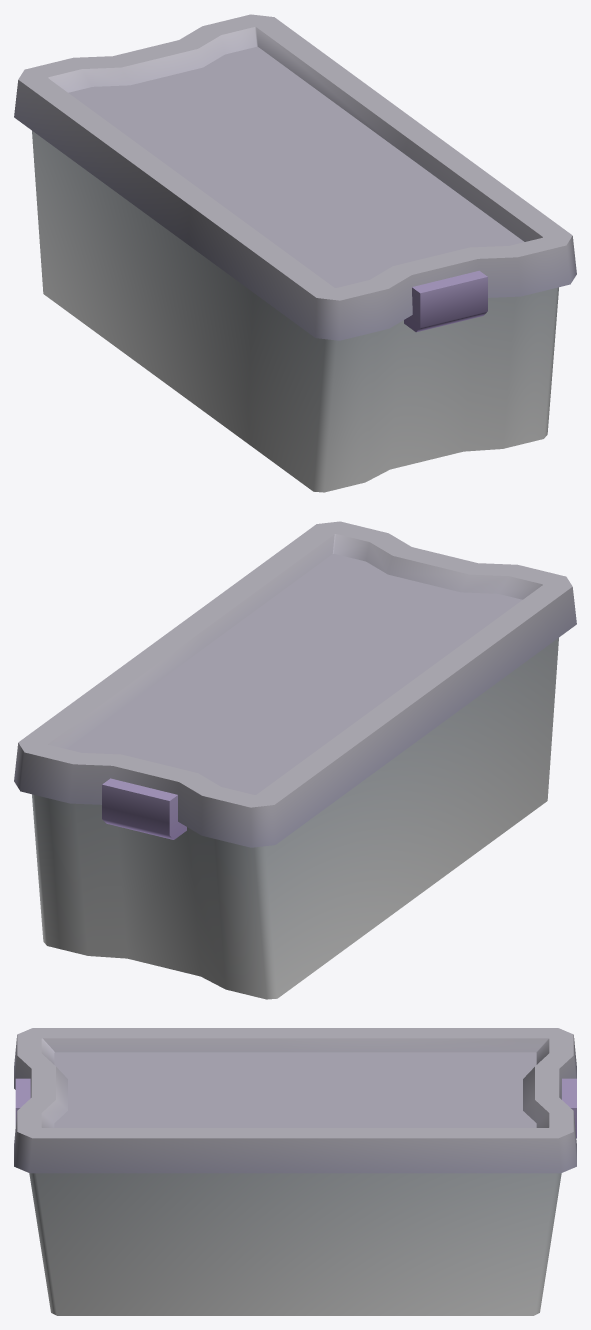
Rendered from storage-plastic-box-long.glb.
The picture shows the model from 3 angles, top to bottom: view 1: azimuth 30°, elevation 25°; view 2: azimuth 150°, elevation 25°; view 3: azimuth 270°, elevation 25°; orthographic projection. The views are drawn at different scales.
Visible parts, largest first — view 1: storage-plastic-box-long; view 2: storage-plastic-box-long; view 3: storage-plastic-box-long.
Boxes of the visible parts, left/top/right/bottom form: storage-plastic-box-long: left=14, top=14, right=576, bottom=492; storage-plastic-box-long: left=14, top=521, right=576, bottom=999; storage-plastic-box-long: left=14, top=1028, right=576, bottom=1315.
Bounding box in the file's own units: 0.4109 × 0.3105 × 0.8688.
